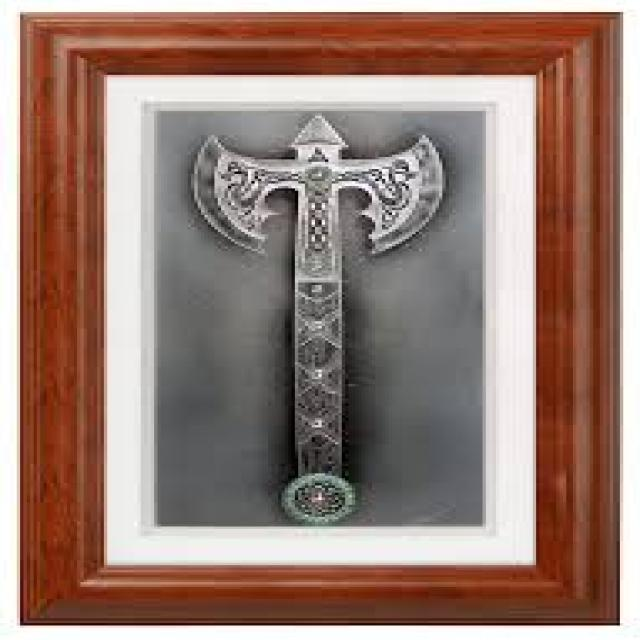Gun: (183, 133, 459, 540)
